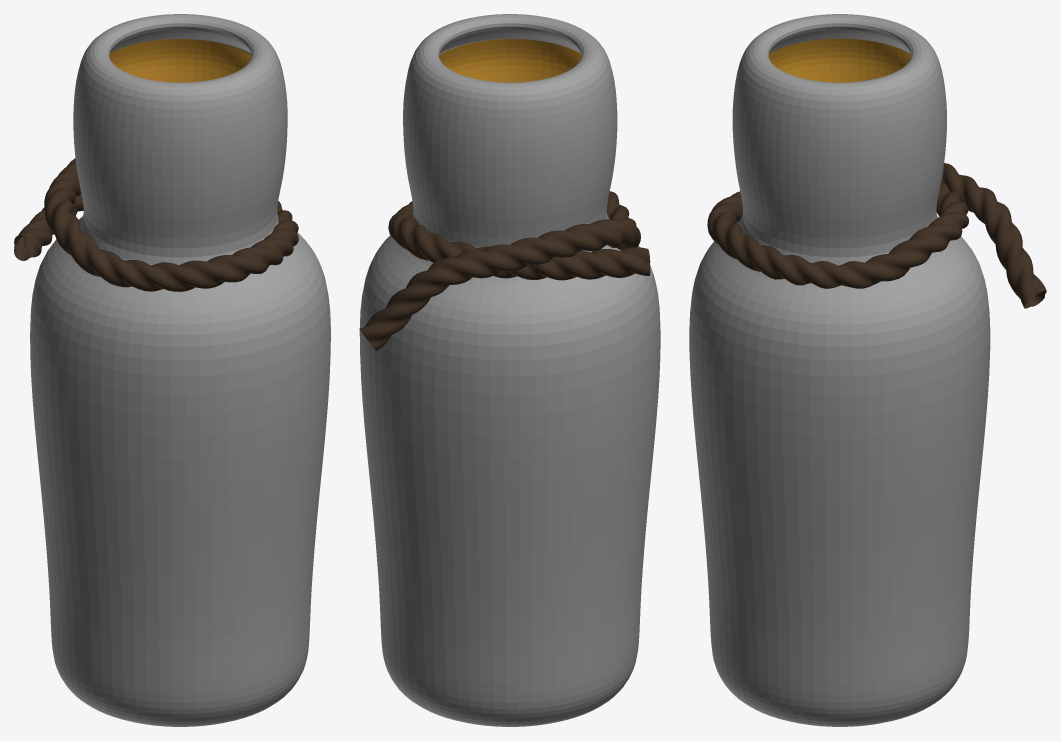
The model's file is TestaAi.fbx.
The picture shows the model from 3 angles, left to right: view 1: azimuth 30°, elevation 25°; view 2: azimuth 150°, elevation 25°; view 3: azimuth 270°, elevation 25°; orthographic projection.
Visible parts, largest first — view 1: Vidro, Corda, PocaoCor; view 2: Vidro, Corda, PocaoCor; view 3: Vidro, Corda, PocaoCor.
Boxes of the visible parts, left/top/right/bottom form: Vidro: left=30, top=14, right=330, bottom=726; Corda: left=14, top=158, right=298, bottom=291; PocaoCor: left=109, top=39, right=251, bottom=82; Vidro: left=359, top=14, right=660, bottom=726; Corda: left=359, top=191, right=650, bottom=350; PocaoCor: left=439, top=39, right=581, bottom=82; Vidro: left=689, top=14, right=990, bottom=726; Corda: left=707, top=163, right=1046, bottom=308; PocaoCor: left=768, top=38, right=910, bottom=82.
Size of the model in its own units: 334 by 718 by 364.
